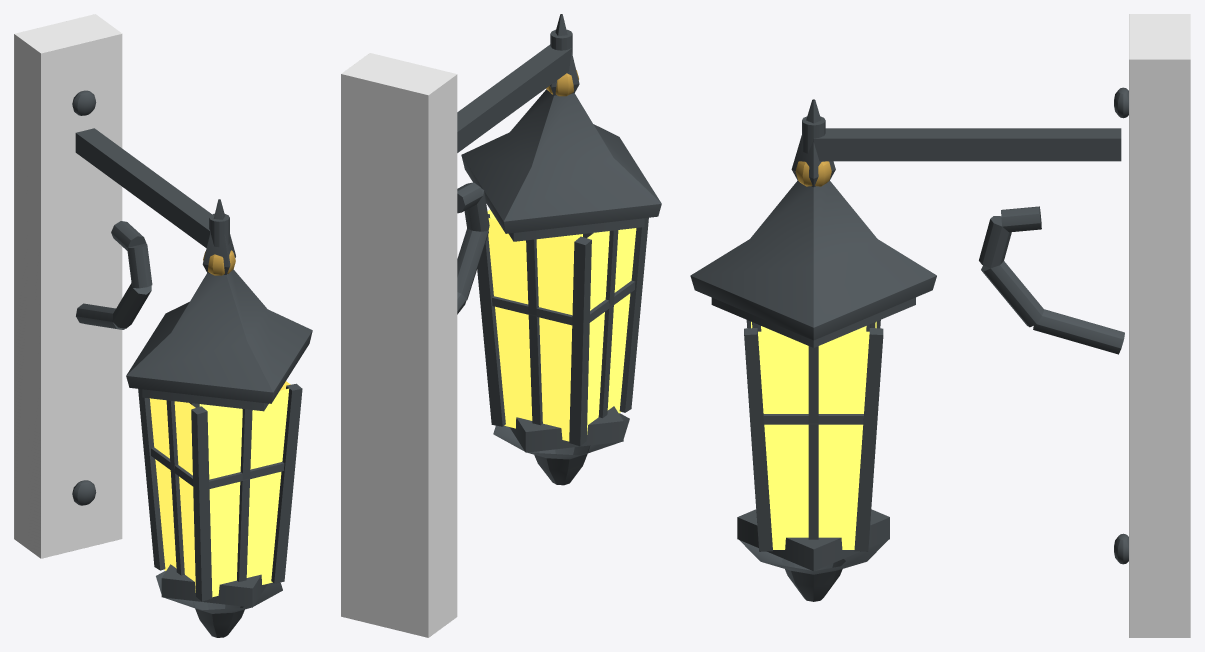
File: 12_wall_lantern.glb
3 renders of one model, left to right at view 1: azimuth 30°, elevation 25°; view 2: azimuth 150°, elevation 25°; view 3: azimuth 270°, elevation 25°, orthographic. The views are drawn at different scales.
Parts seen in each view (by area): view 1: 12_wall_lantern; view 2: 12_wall_lantern; view 3: 12_wall_lantern.
Boxes of the visible parts, left/top/right/bottom form: 12_wall_lantern: left=14, top=14, right=312, bottom=637; 12_wall_lantern: left=341, top=14, right=661, bottom=637; 12_wall_lantern: left=690, top=14, right=1190, bottom=637.
Bounding box in the file's own units: 0.6419 × 1.66 × 1.3.
